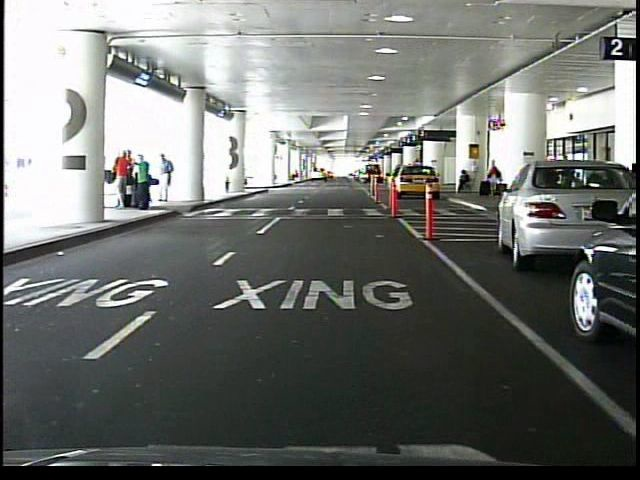person: (136, 154, 155, 211), (158, 154, 175, 205), (118, 149, 132, 207), (485, 161, 499, 197), (454, 170, 470, 196)
